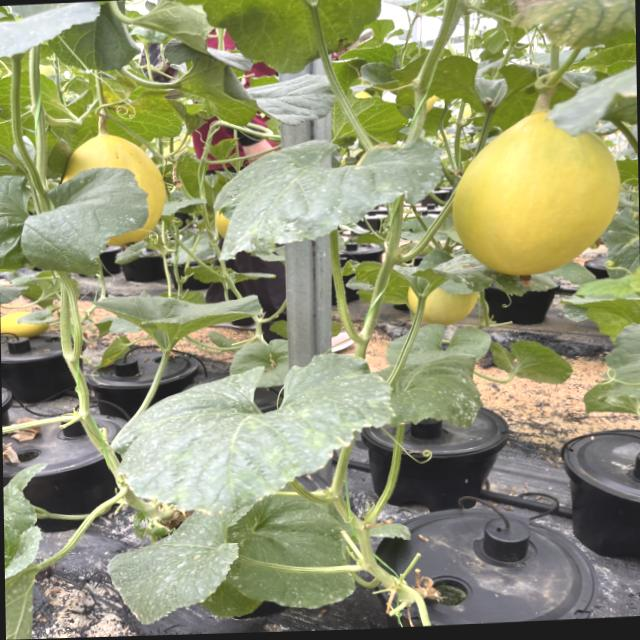downy mildew: (98, 356, 384, 527), (207, 125, 433, 257), (52, 498, 242, 638)
healthy: (10, 164, 154, 276), (166, 61, 338, 135)
powdery mildew: (371, 319, 494, 429)
